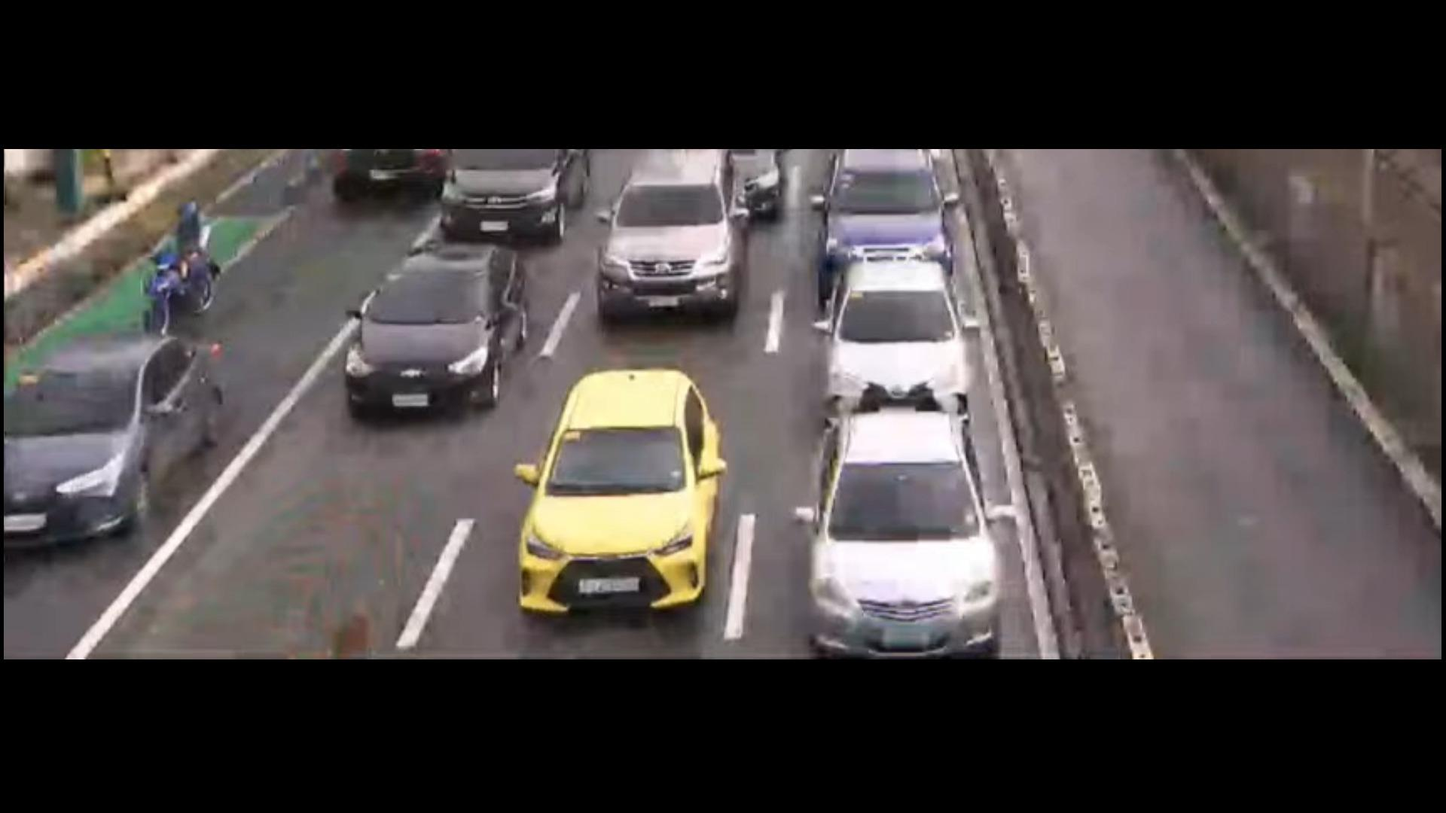Motorcycle: (135, 189, 238, 339)
SUV: (798, 405, 1028, 658), (789, 247, 983, 429), (594, 147, 772, 330), (813, 140, 998, 303)
Sedan: (487, 367, 752, 651), (0, 322, 253, 532), (327, 229, 548, 441)
